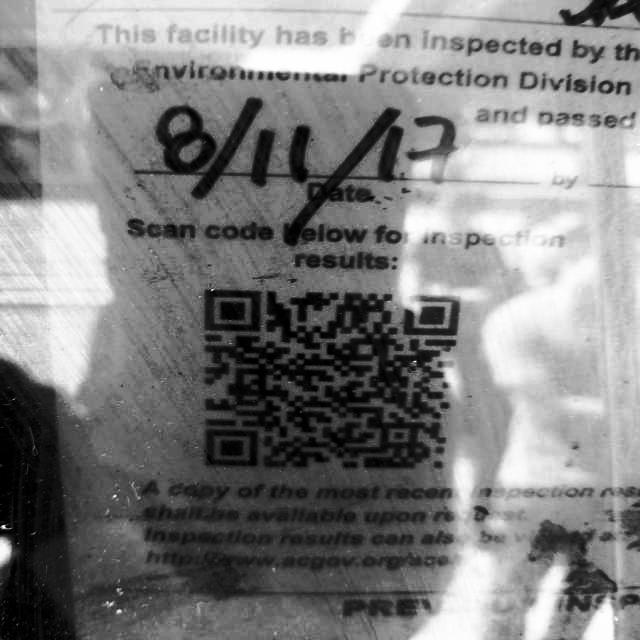qr_code: (180, 271, 476, 489)
